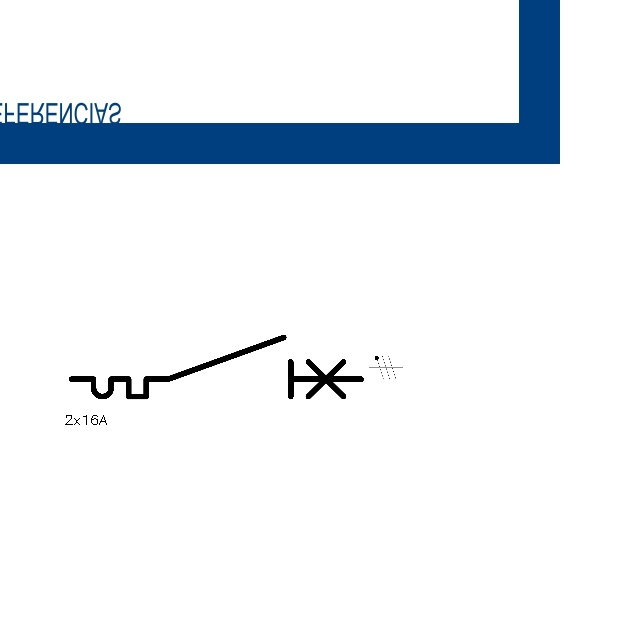interruptor_termomagnetico: (64, 330, 368, 404)
